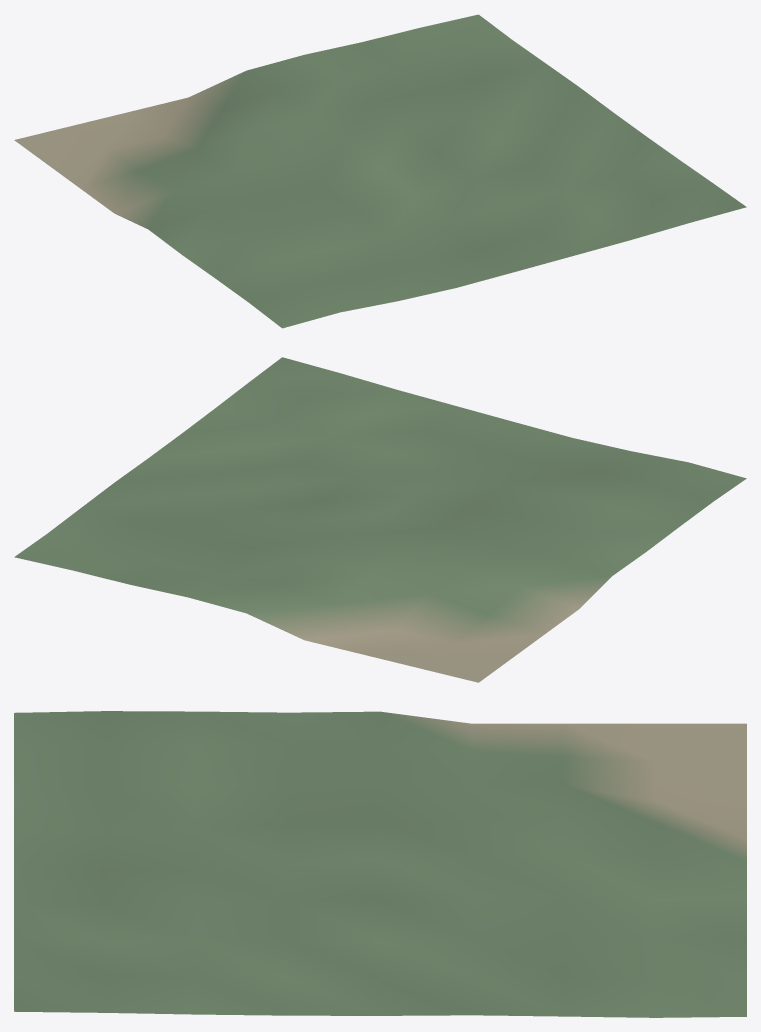
3 views of the same model, one above another, from view 1: azimuth 30°, elevation 25°; view 2: azimuth 150°, elevation 25°; view 3: azimuth 270°, elevation 25° (orthographic). The views are drawn at different scales.
Parts seen in each view (by area): view 1: Lo; view 2: Lo; view 3: Lo.
Boxes of the visible parts, x1,y1,x2,y2 form: Lo: (14,14,746,328); Lo: (14,357,746,682); Lo: (14,711,746,1017).
Bounding box in the file's own units: 256 × 9.73 × 256.
